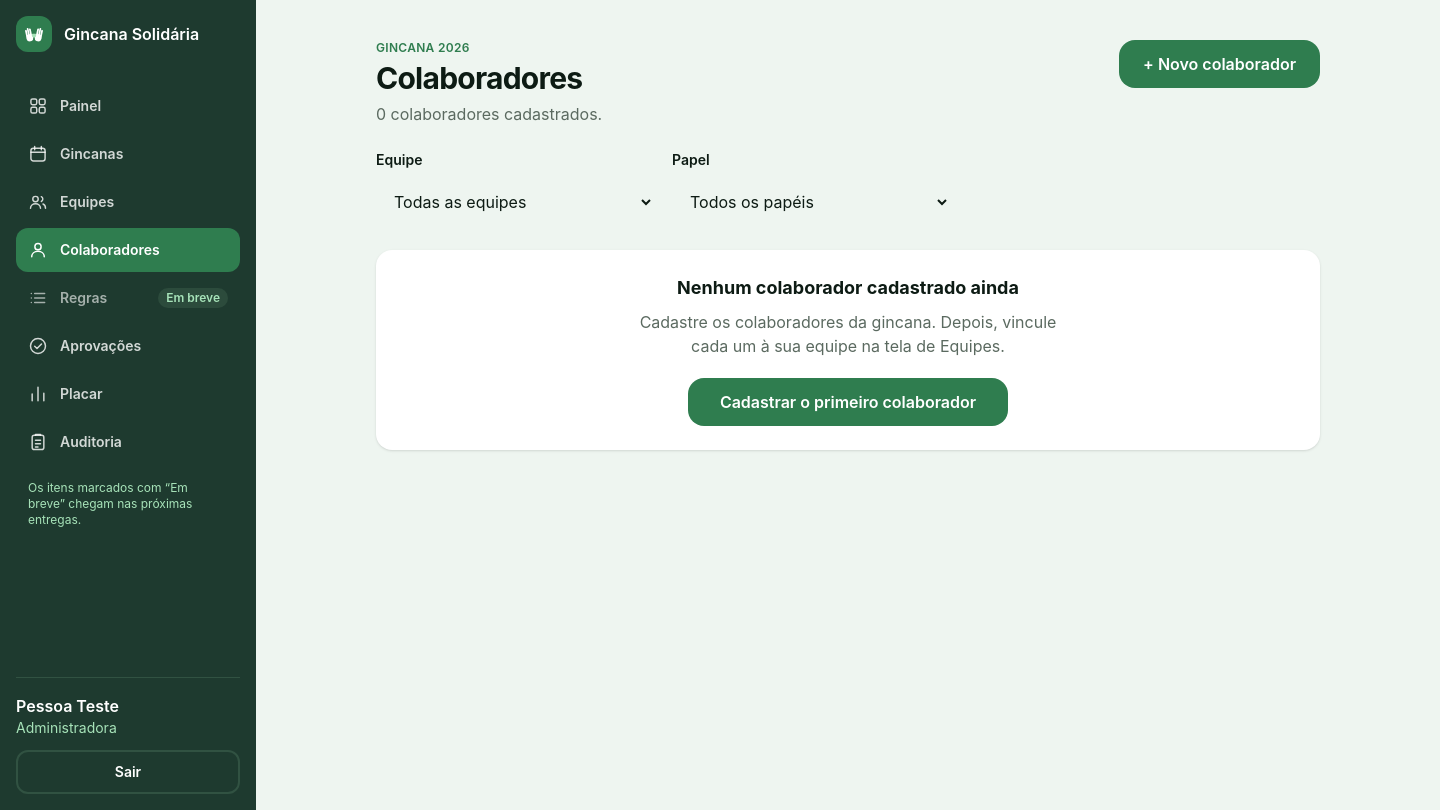
Colaboradores (US03) › lista e filtros › explica o que fazer quando ainda não há colaborador
Expected: the heading "Nenhum colaborador cadastrado ainda" is shown, top-left (677, 276), bottom-right (1019, 298)
Click the button "Cadastrar o primeiro colaborador" at [848, 402], box top-left (688, 378), bottom-right (1008, 426)
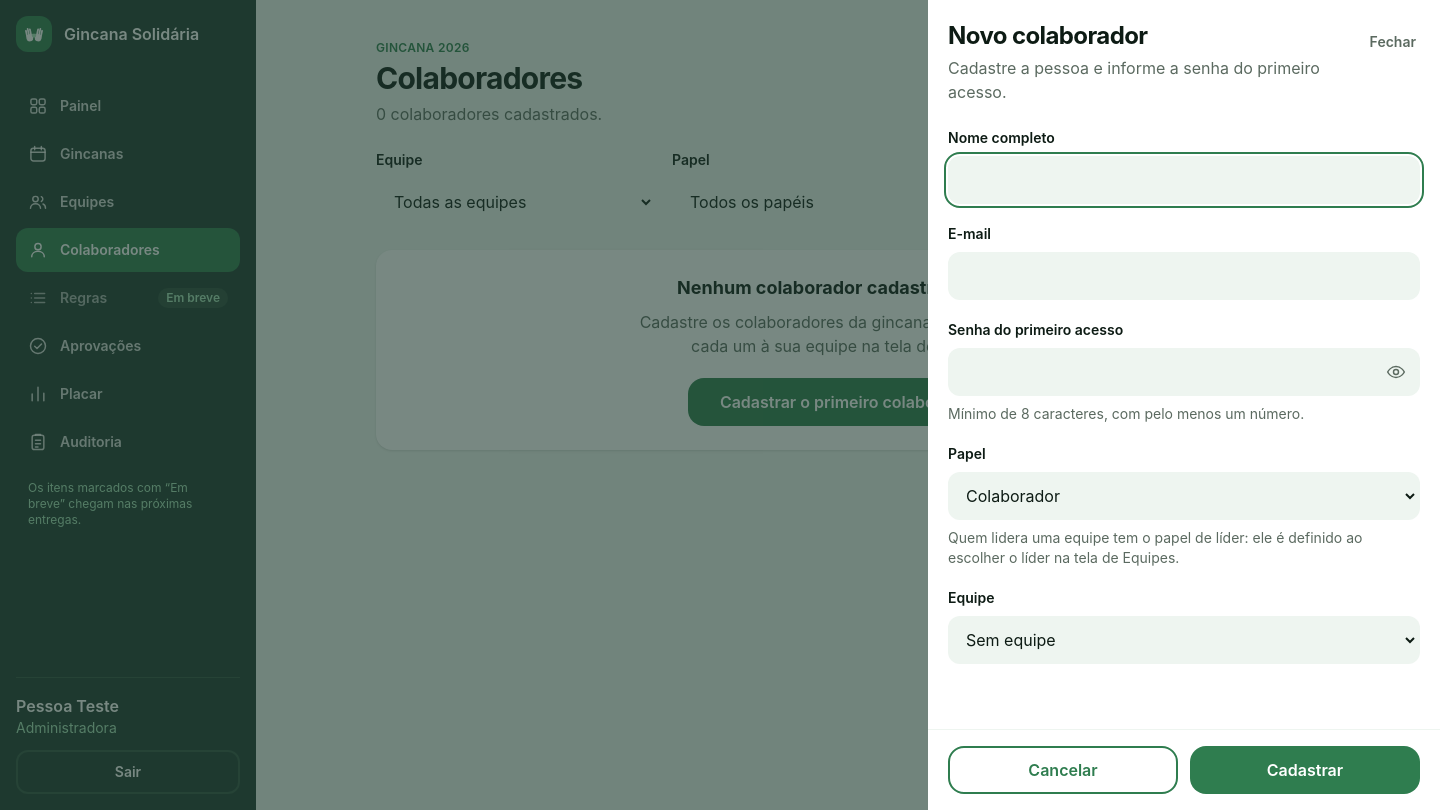
Expected: the dialog "Novo colaborador" is shown, top-left (928, 0), bottom-right (1439, 809)
